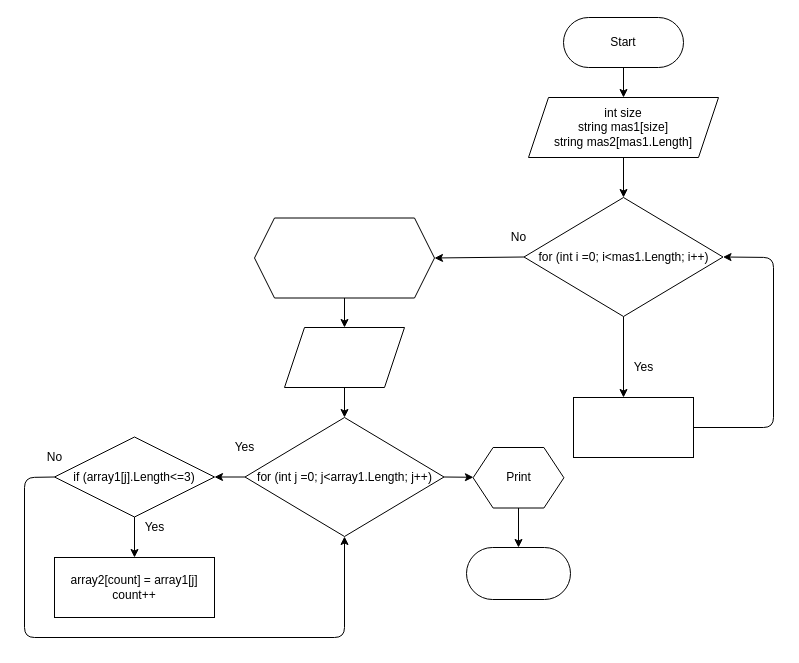
The diagram is 799 pixels wide and 663 high, and some of its shapes have lost their labels. Here are the shapes that lost their labels. From the top down, the centre of each, then its label:
At (x=344, y=257): "SecondMas".
At (x=344, y=357): "string [] array1 string [] array2 int count".
At (x=633, y=427): "string x mas[i]=x".
At (x=518, y=573): "End".
